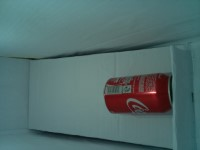kaleng: (103, 73, 173, 114)
